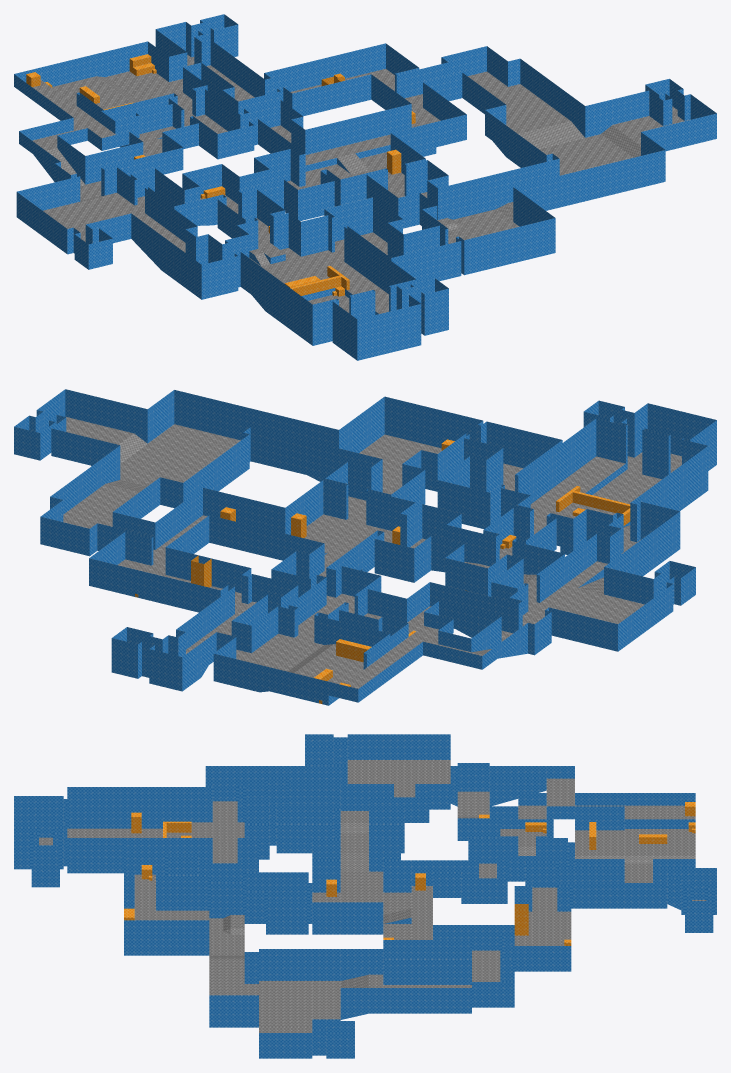
3 renders of one model, top to bottom at view 1: azimuth 30°, elevation 25°; view 2: azimuth 150°, elevation 25°; view 3: azimuth 270°, elevation 25°, orthographic. The views are drawn at different scales.
Visible parts, largest first — view 1: PrototypeMap_Obstacles.398, PrototypeMap_Obstacles.282, PrototypeMap_Obstacles.391, PrototypeMap_Obstacles.281, PrototypeMap_Obstacles.291, PrototypeMap_Obstacles.247, PrototypeMap_Obstacles.215, PrototypeMap_Obstacles.225, PrototypeMap_Obstacles.266, PrototypeMap_Obstacles.388, PrototypeMap_Obstacles.172, PrototypeMap_Obstacles.149 (+64 smaller); view 2: PrototypeMap_Obstacles.398, PrototypeMap_Obstacles.391, PrototypeMap_Obstacles.282, PrototypeMap_Obstacles.408, PrototypeMap_Obstacles.281, PrototypeMap_Obstacles.215, PrototypeMap_Obstacles.172, PrototypeMap_Obstacles.388, PrototypeMap_Obstacles.291, PrototypeMap_Obstacles.251, PrototypeMap_Obstacles.225, PrototypeMap_Obstacles.412 (+83 smaller); view 3: PrototypeMap_Obstacles.398, PrototypeMap_Obstacles.247, PrototypeMap_Obstacles.408, PrototypeMap_Obstacles.391, PrototypeMap_Obstacles.272, PrototypeMap_Obstacles.270, PrototypeMap_Obstacles.388, PrototypeMap_Obstacles.296, PrototypeMap_Obstacles.149, PrototypeMap_Obstacles.412, PrototypeMap_Obstacles.400, PrototypeMap_Obstacles.143 (+61 smaller).
Part boxes in pixels (x1=…): PrototypeMap_Obstacles.398: x1=105, y1=65, x2=570, y2=165; PrototypeMap_Obstacles.282: x1=513, y1=150, x2=665, y2=210; PrototypeMap_Obstacles.391: x1=249, y1=209, x2=519, y2=313; PrototypeMap_Obstacles.281: x1=438, y1=158, x2=559, y2=219; PrototypeMap_Obstacles.291: x1=464, y1=218, x2=555, y2=274; PrototypeMap_Obstacles.247: x1=240, y1=252, x2=312, y2=345; PrototypeMap_Obstacles.215: x1=264, y1=43, x2=385, y2=93; PrototypeMap_Obstacles.225: x1=305, y1=104, x2=411, y2=154; PrototypeMap_Obstacles.266: x1=357, y1=304, x2=421, y2=360; PrototypeMap_Obstacles.388: x1=43, y1=192, x2=185, y2=252; PrototypeMap_Obstacles.172: x1=14, y1=41, x2=147, y2=86; PrototypeMap_Obstacles.149: x1=131, y1=213, x2=201, y2=299; PrototypeMap_Obstacles.398: x1=63, y1=484, x2=354, y2=671; PrototypeMap_Obstacles.391: x1=359, y1=434, x2=640, y2=553; PrototypeMap_Obstacles.282: x1=174, y1=390, x2=338, y2=448; PrototypeMap_Obstacles.408: x1=120, y1=424, x2=240, y2=486; PrototypeMap_Obstacles.281: x1=250, y1=427, x2=382, y2=481; PrototypeMap_Obstacles.215: x1=89, y1=558, x2=220, y2=612; PrototypeMap_Obstacles.172: x1=213, y1=654, x2=358, y2=705; PrototypeMap_Obstacles.388: x1=522, y1=561, x2=644, y2=626; PrototypeMap_Obstacles.291: x1=384, y1=396, x2=482, y2=448; PrototypeMap_Obstacles.251: x1=518, y1=419, x2=596, y2=503; PrototypeMap_Obstacles.225: x1=209, y1=515, x2=323, y2=560; PrototypeMap_Obstacles.412: x1=304, y1=486, x2=425, y2=561; PrototypeMap_Obstacles.398: x1=369, y1=863, x2=652, y2=987; PrototypeMap_Obstacles.247: x1=67, y1=787, x2=212, y2=828; PrototypeMap_Obstacles.408: x1=209, y1=958, x2=340, y2=1026; PrototypeMap_Obstacles.391: x1=134, y1=801, x2=244, y2=955; PrototypeMap_Obstacles.272: x1=259, y1=949, x2=383, y2=980; PrototypeMap_Obstacles.270: x1=340, y1=988, x2=471, y2=1019; PrototypeMap_Obstacles.388: x1=340, y1=760, x2=450, y2=822; PrototypeMap_Obstacles.296: x1=124, y1=920, x2=209, y2=955; PrototypeMap_Obstacles.149: x1=205, y1=766, x2=347, y2=801; PrototypeMap_Obstacles.412: x1=230, y1=871, x2=411, y2=939; PrototypeMap_Obstacles.400: x1=575, y1=829, x2=695, y2=855; PrototypeMap_Obstacles.143: x1=347, y1=734, x2=450, y2=759.
Bounding box in the file's own units: 199 × 13 × 198.
Materials: 3 (3 with a texture image).
